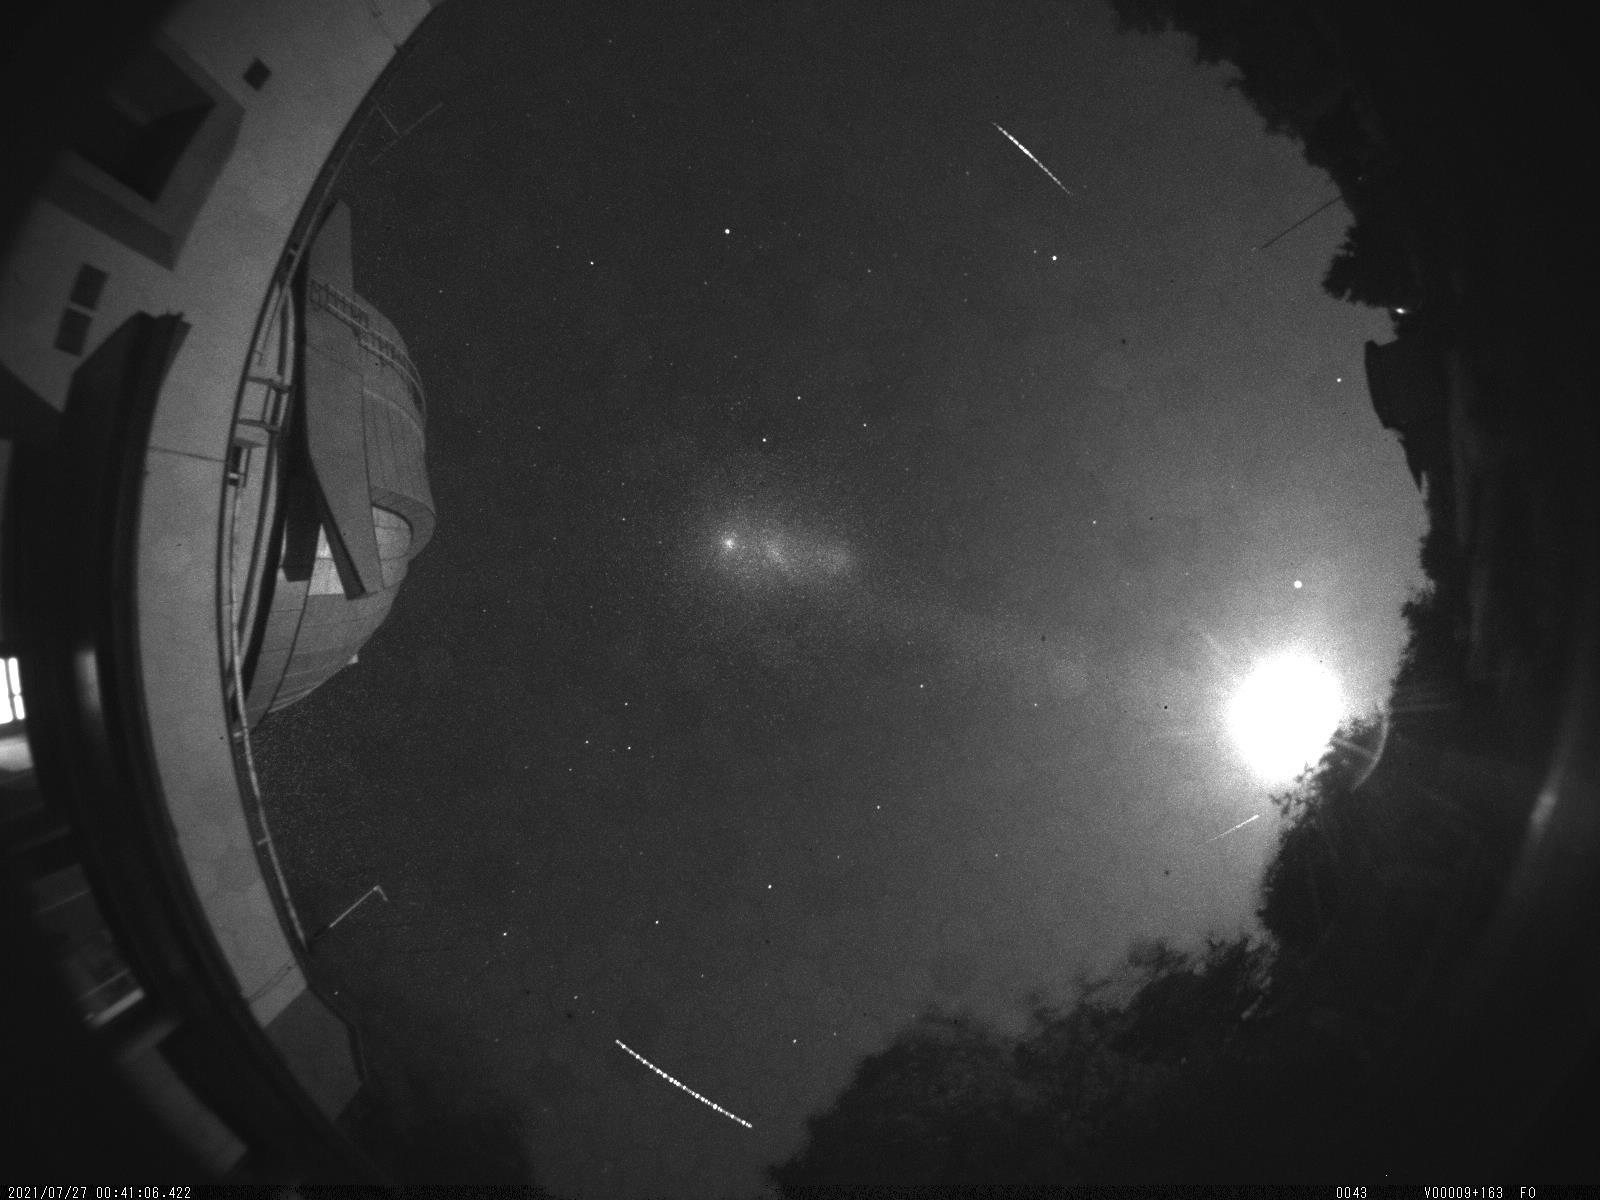Meteor: (984, 111, 1087, 209)
